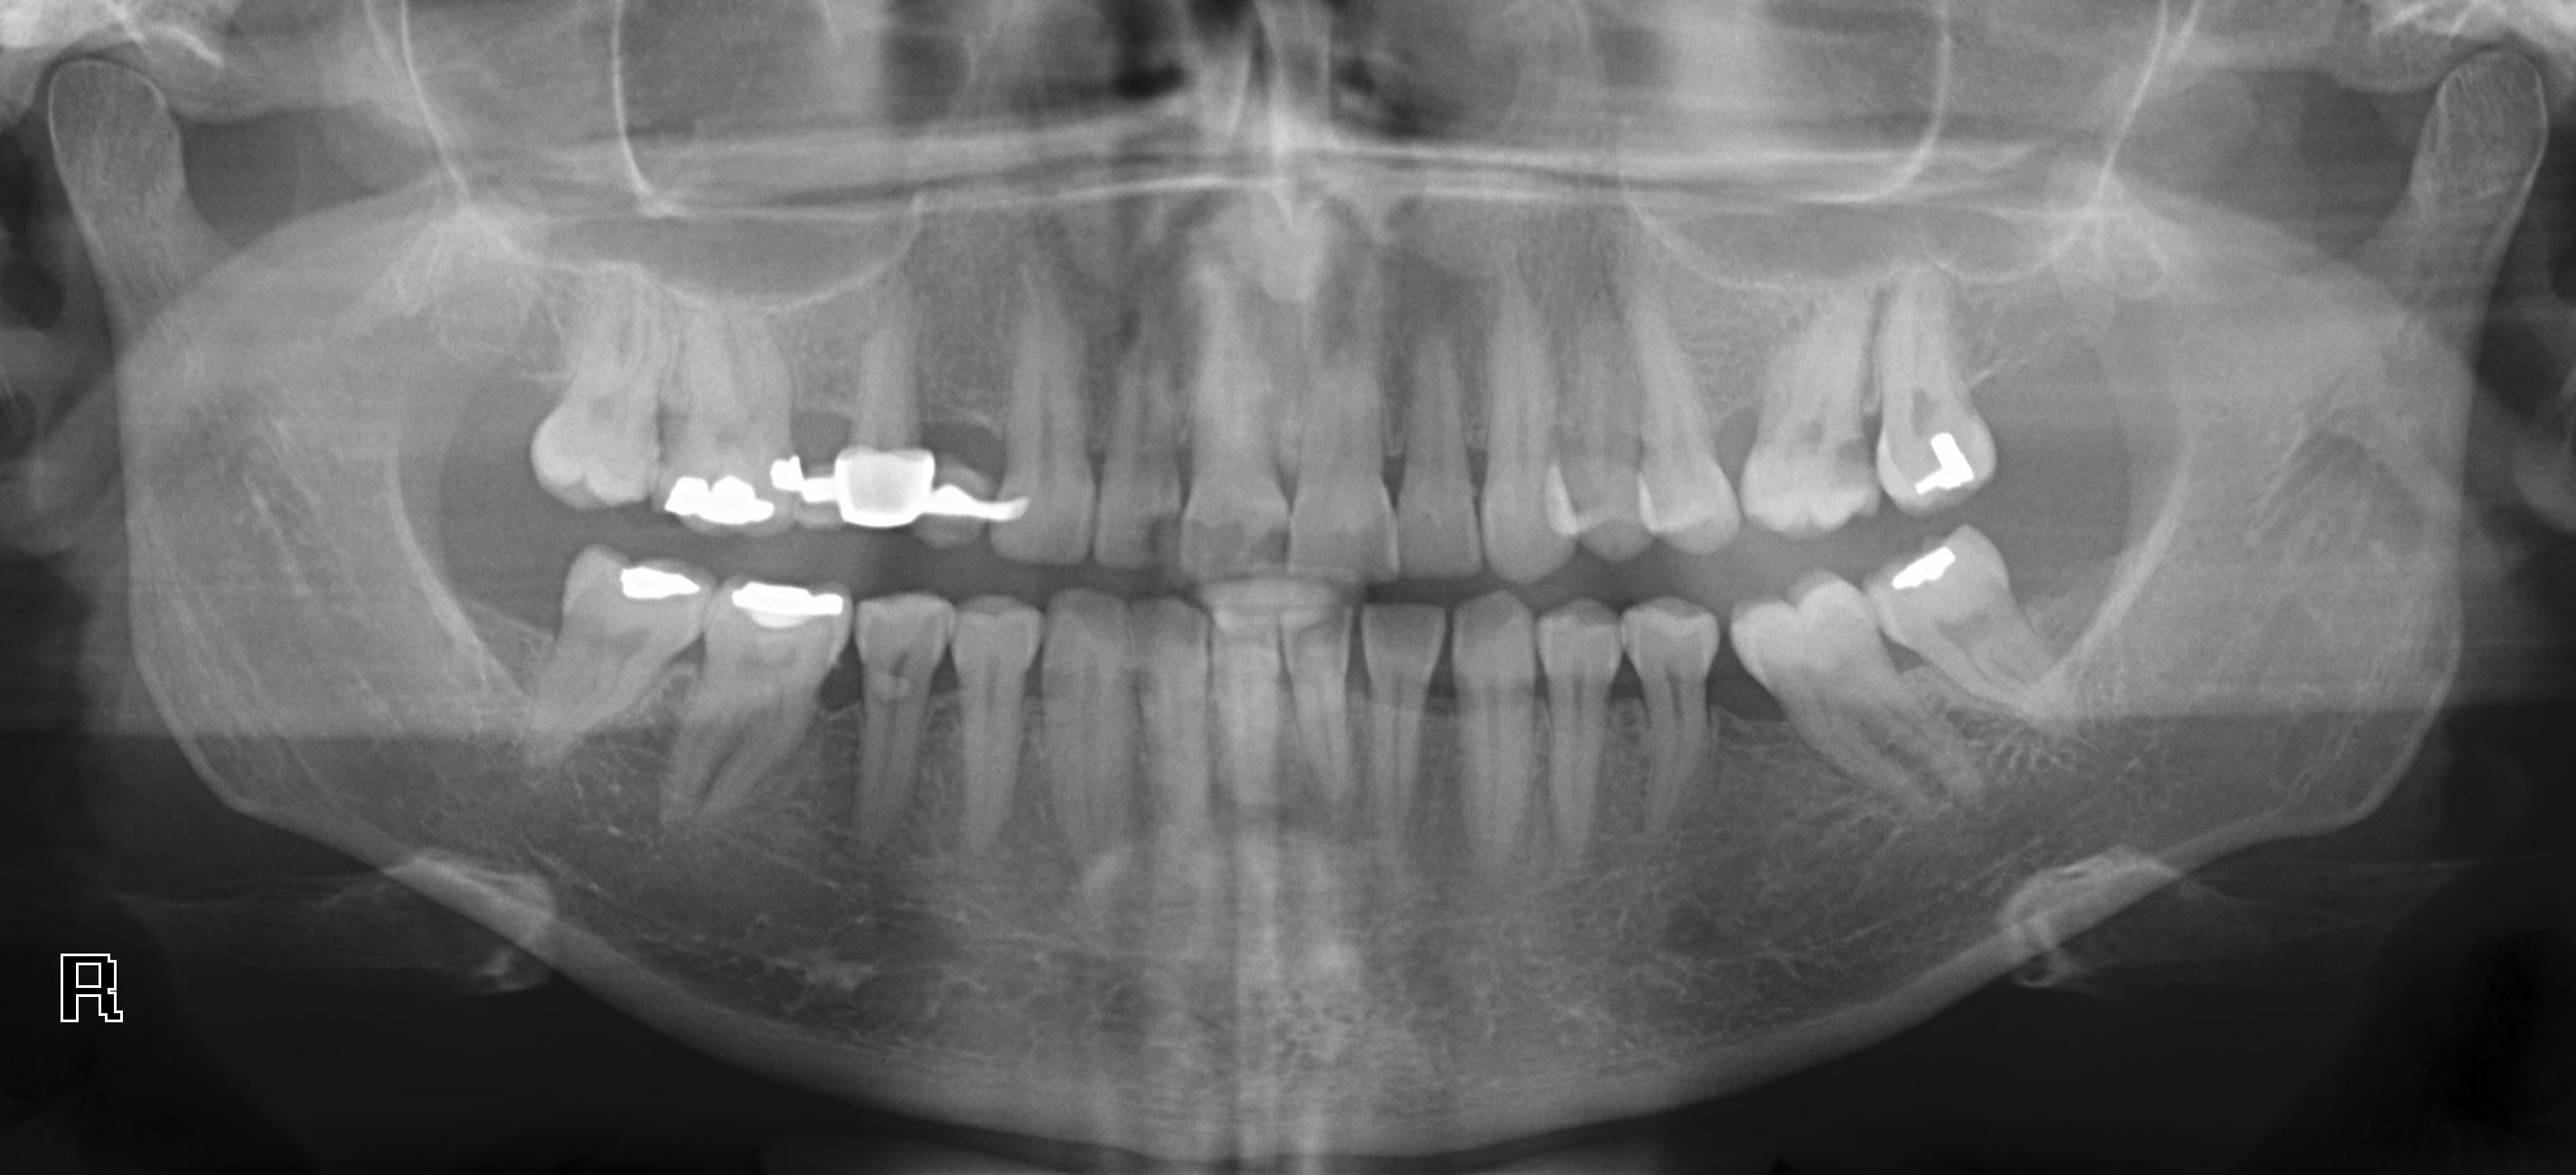Çürük: (823, 447, 935, 522), (663, 465, 773, 534), (729, 575, 848, 625), (615, 560, 701, 609), (1917, 428, 1974, 493), (1891, 542, 1958, 593), (759, 447, 801, 500)
Çürük Bölgesi: (1132, 503, 1197, 570), (874, 692, 921, 712)
